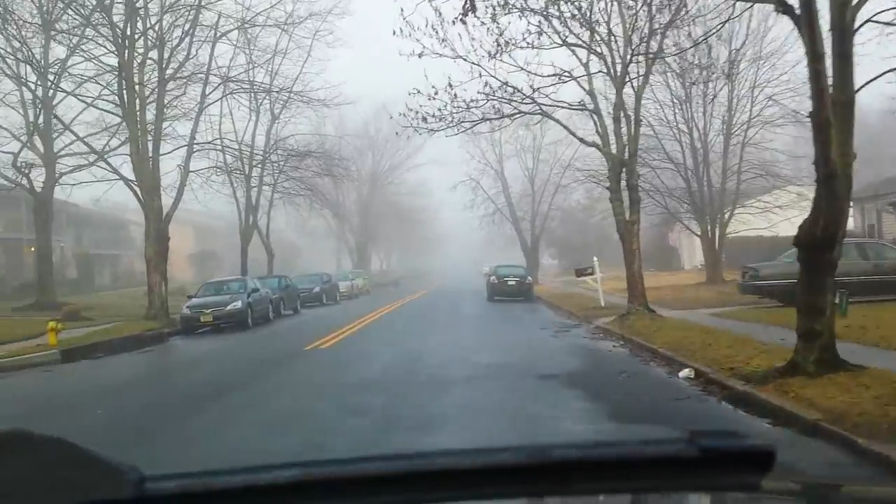car: (735, 230, 896, 304), (175, 275, 277, 334), (232, 274, 302, 315), (280, 273, 343, 308), (483, 263, 536, 301), (319, 270, 361, 304), (342, 268, 372, 298)
